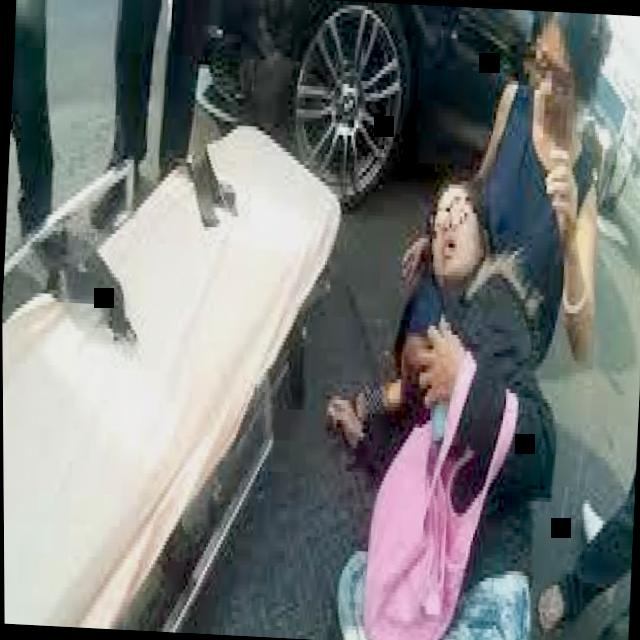Fall-Detected: (302, 118, 600, 640)
